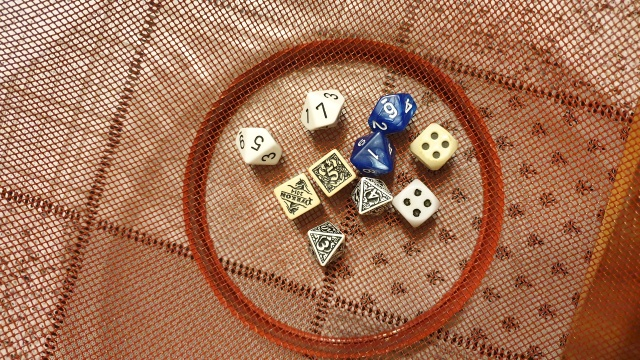d10-1: (348, 131, 398, 176)
d10-5: (232, 124, 283, 168)
d10-6: (367, 87, 419, 136)
d10-7: (294, 85, 346, 133)
d6-4: (408, 119, 460, 174), (391, 179, 441, 230)
d6p-1: (271, 172, 322, 221)
d6p-5: (307, 146, 355, 197)
d8p-3: (306, 219, 347, 270)
d8p-4: (350, 172, 393, 221)
